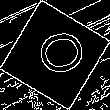O_W: (25, 28, 85, 82)
